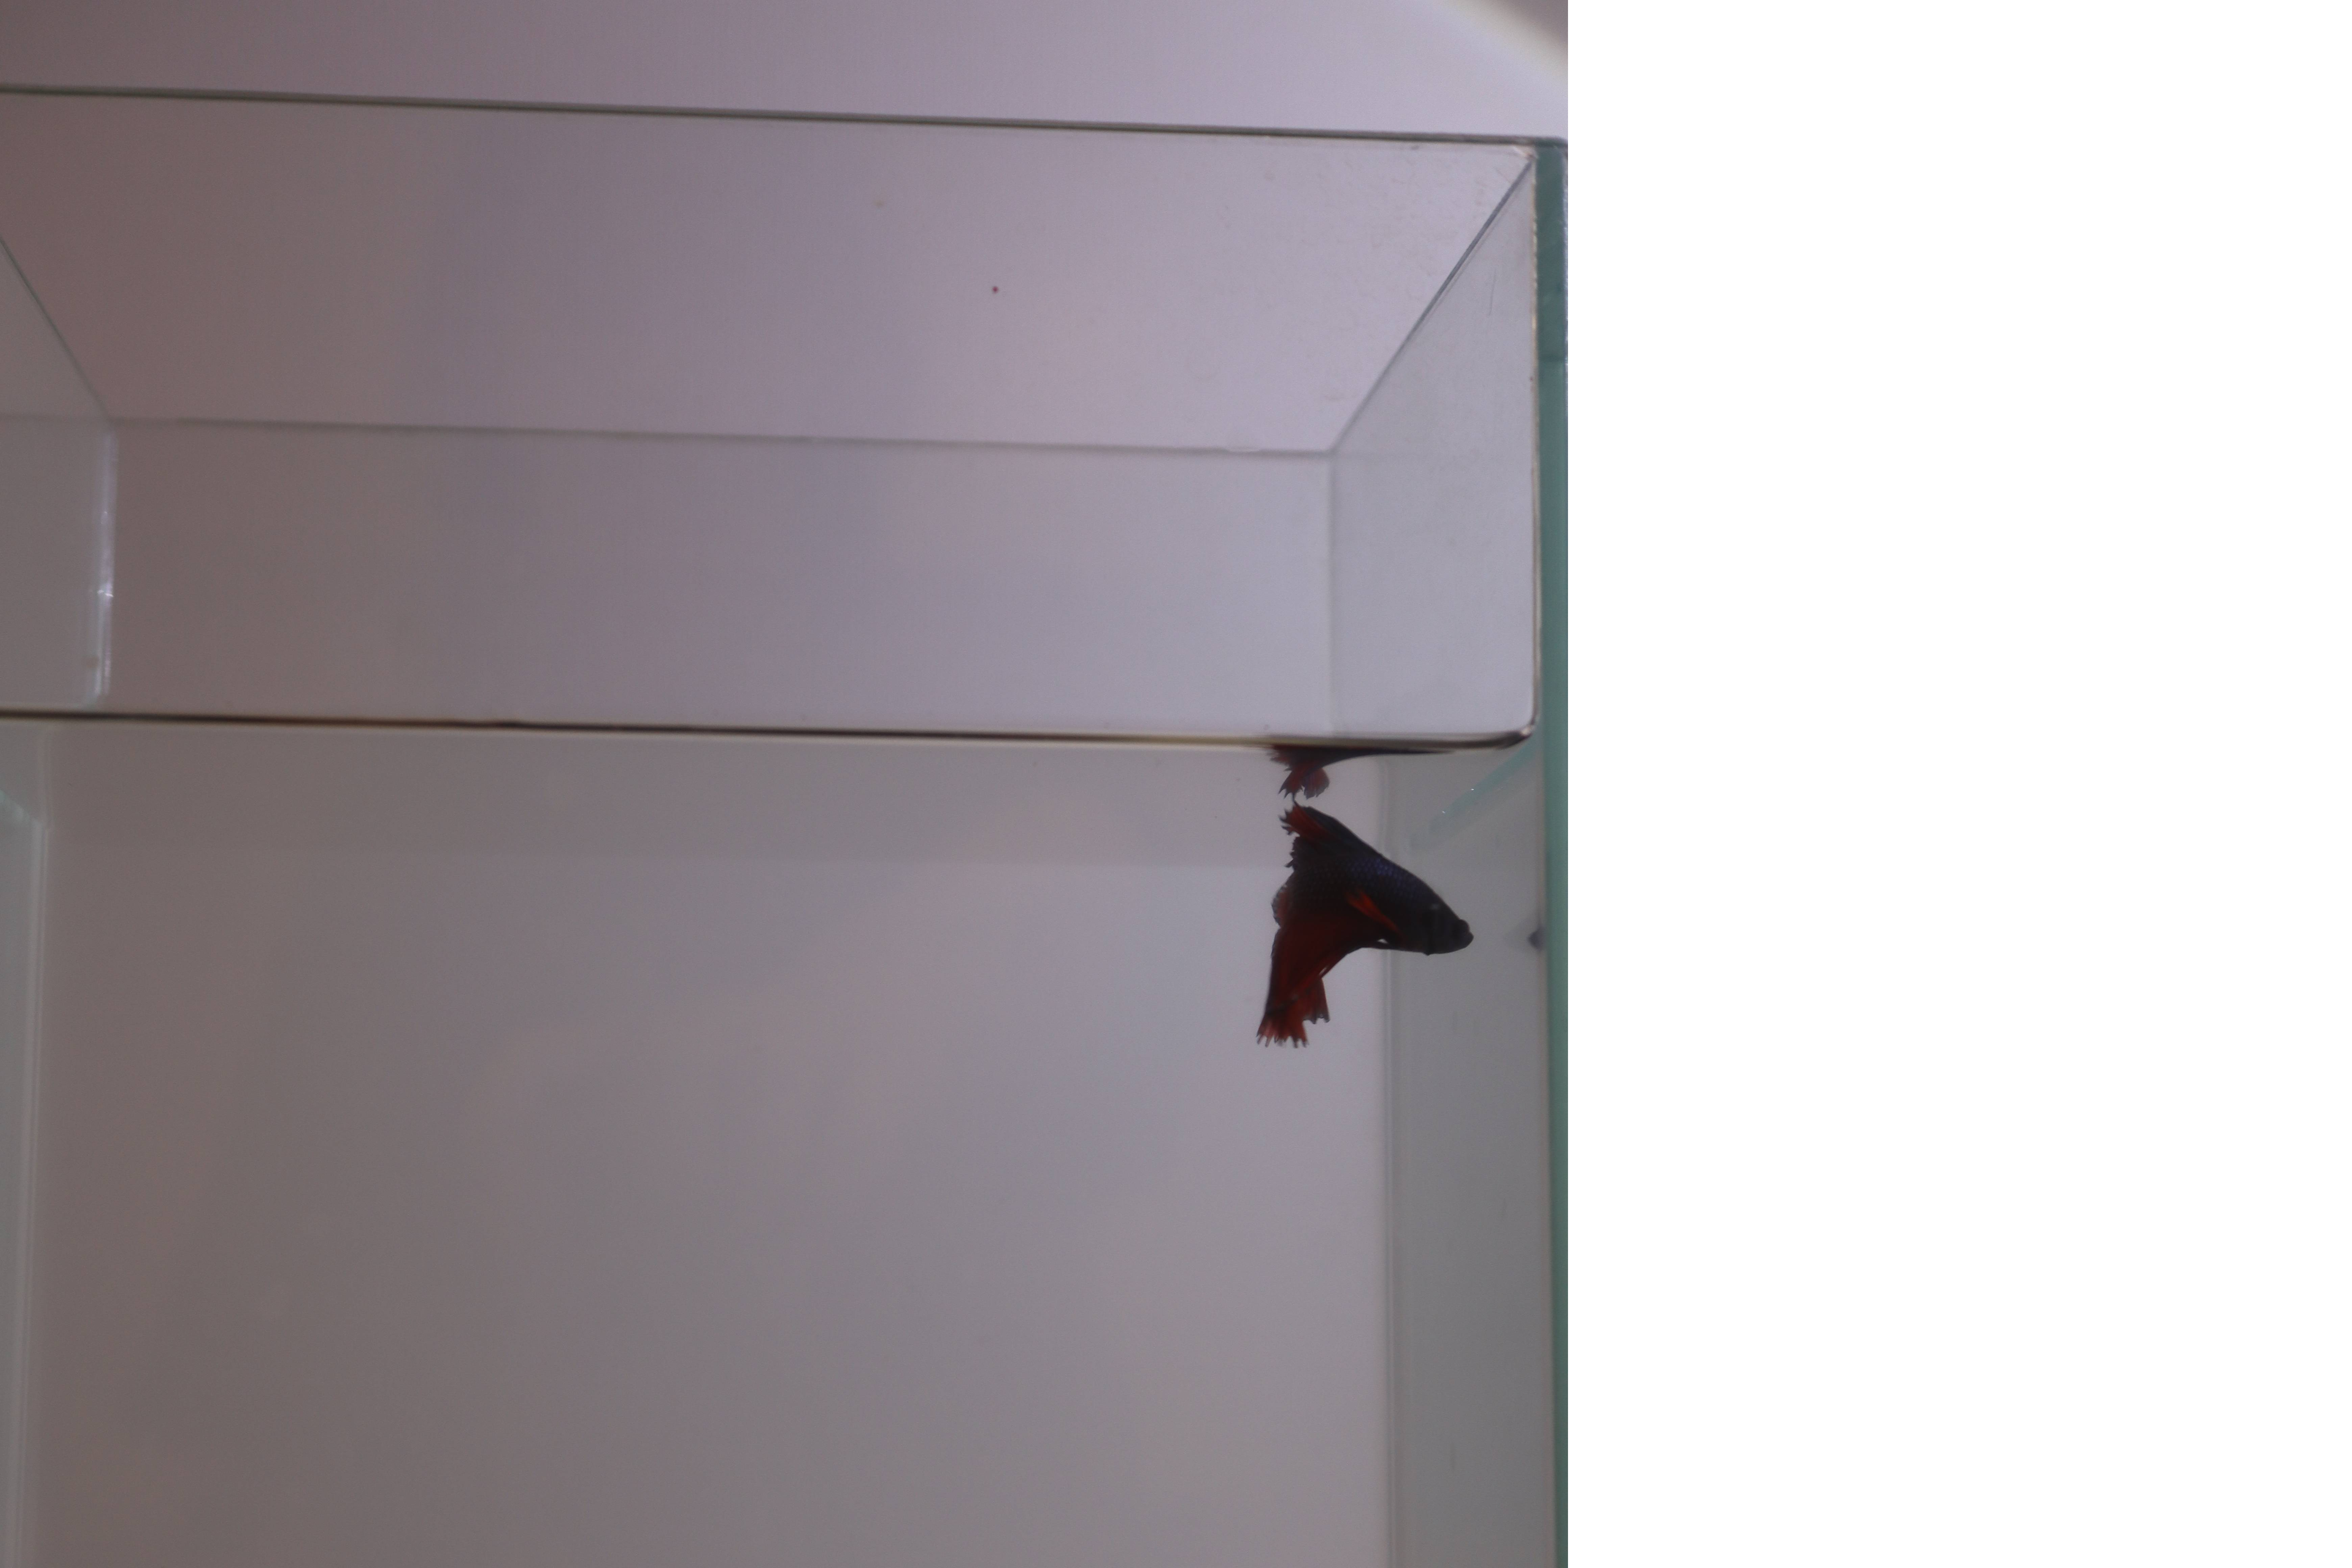fish: (1241, 800, 1479, 1057)
